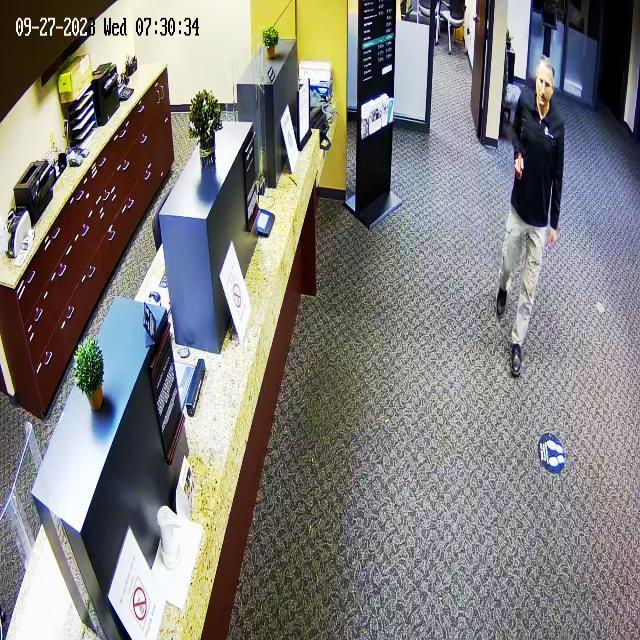Gun: (508, 144, 531, 198)
